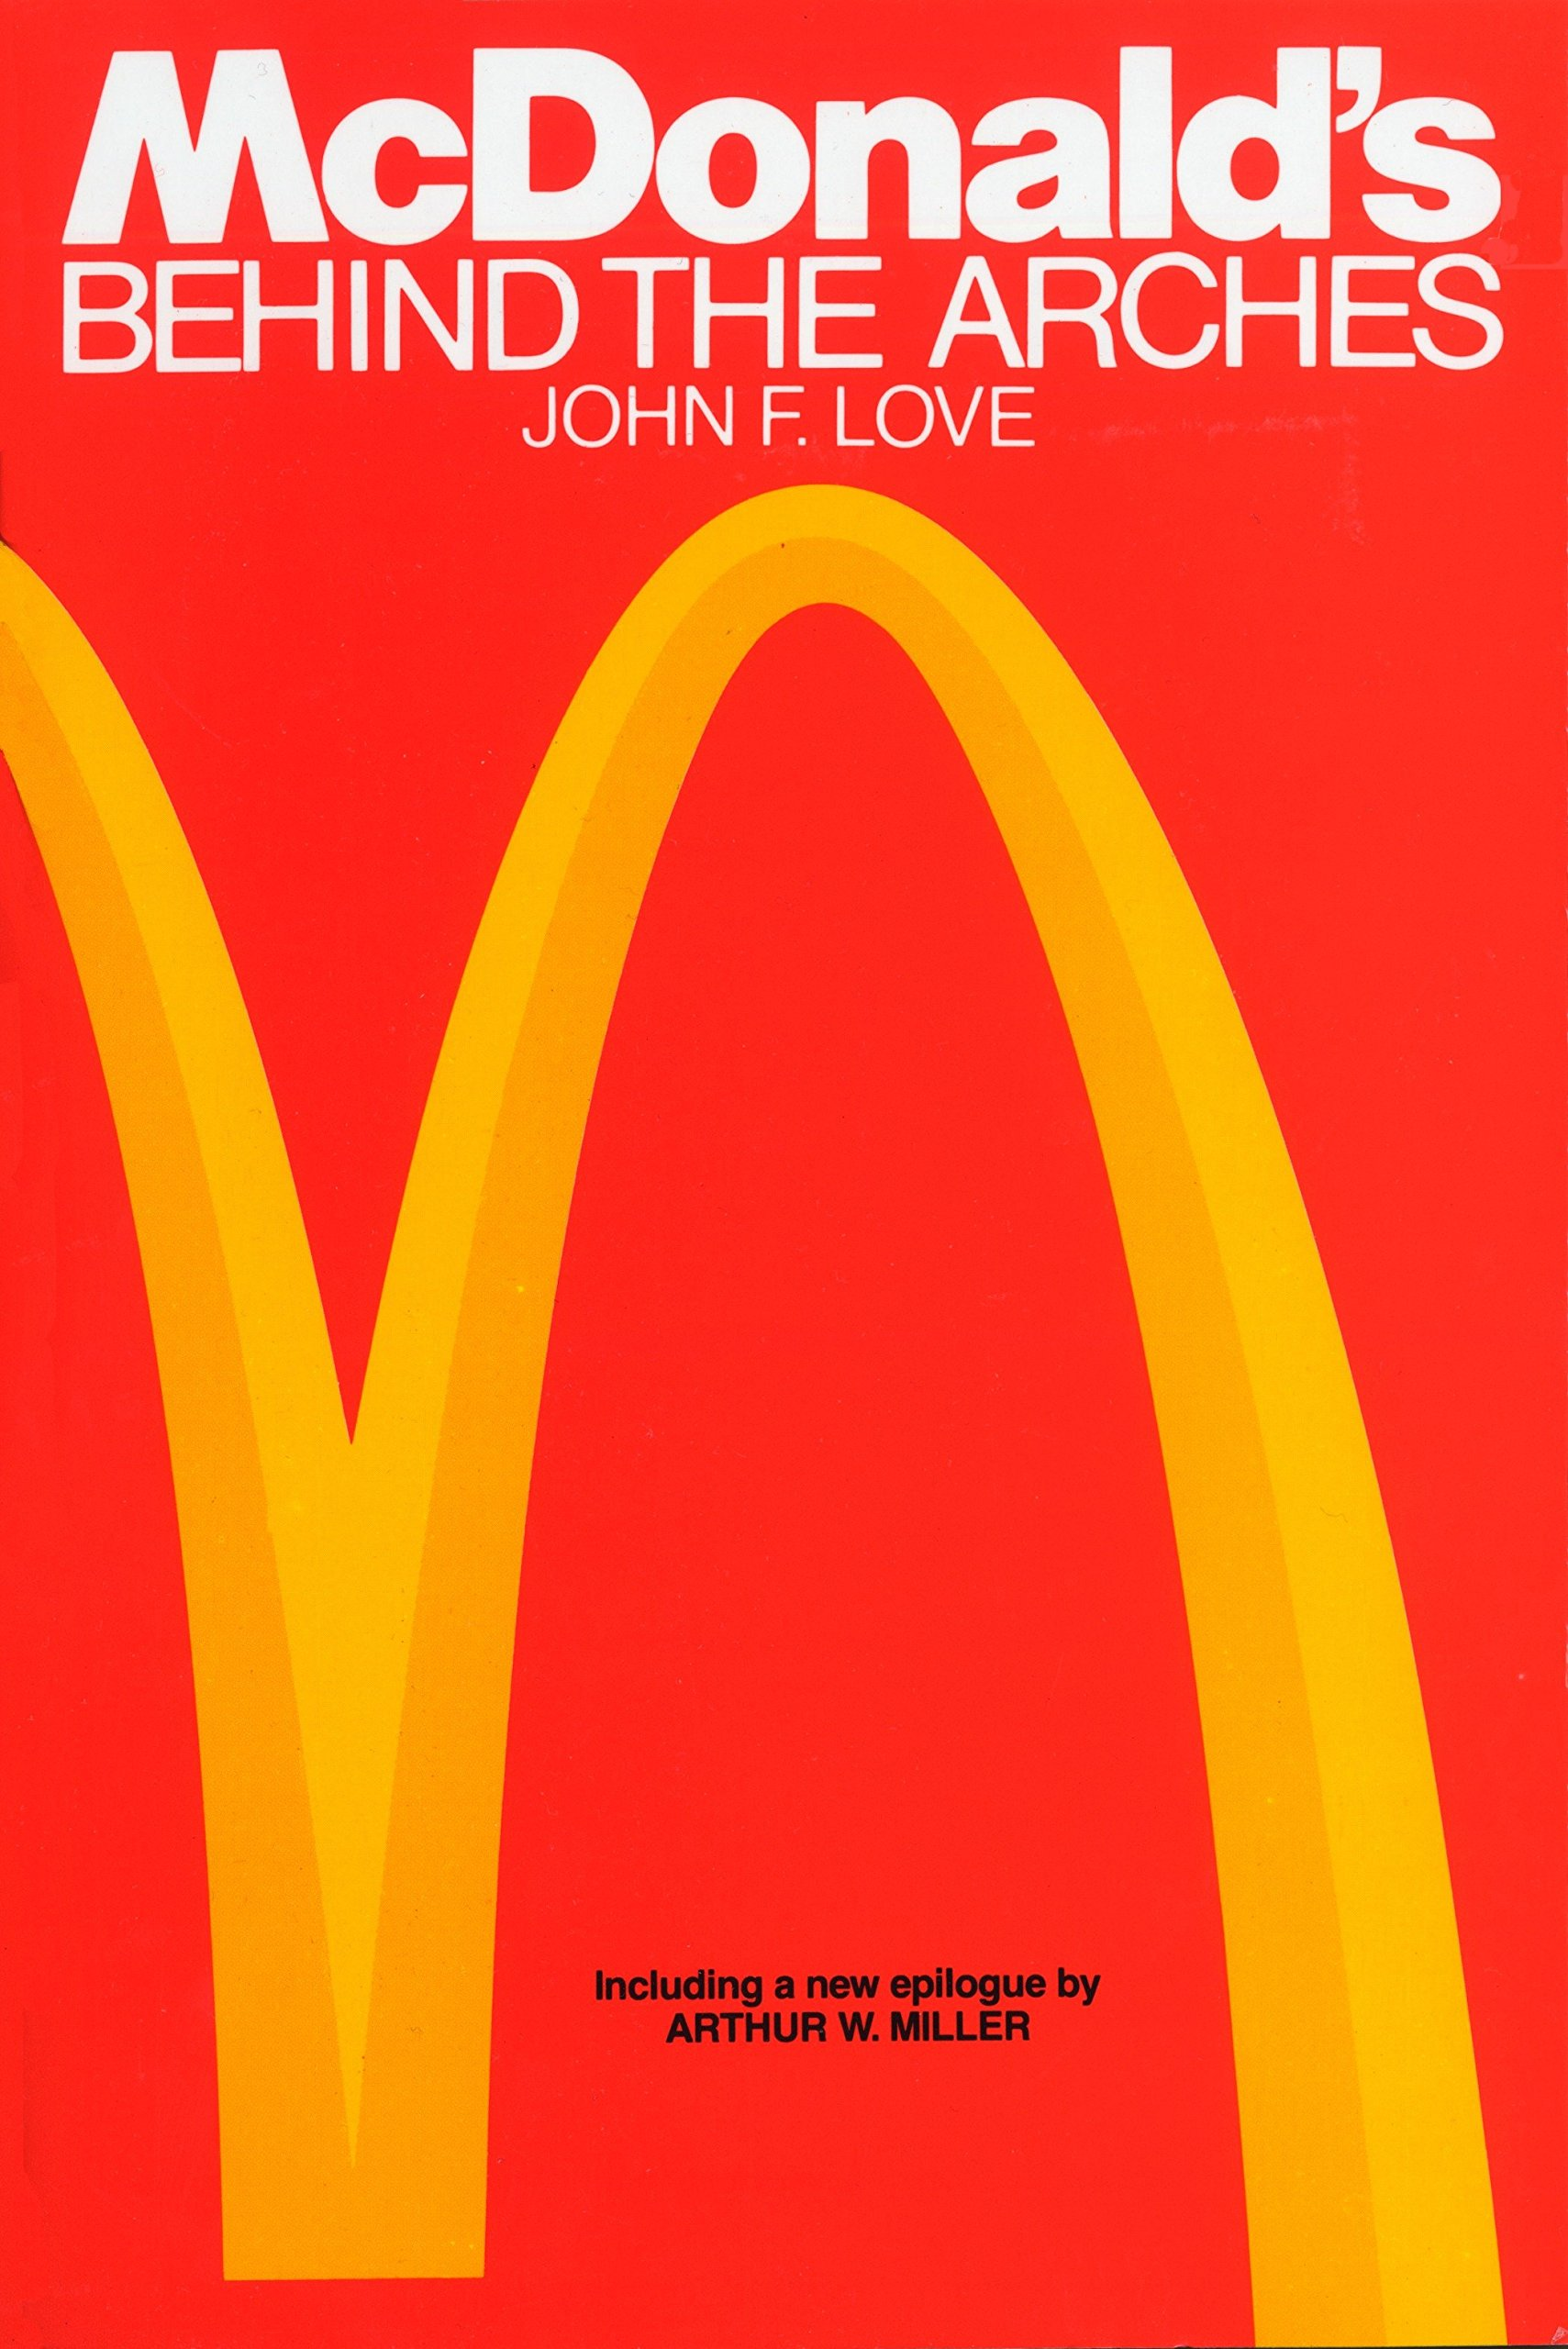mcdonalds: (7, 478, 1526, 2347), (7, 478, 1526, 2328)
